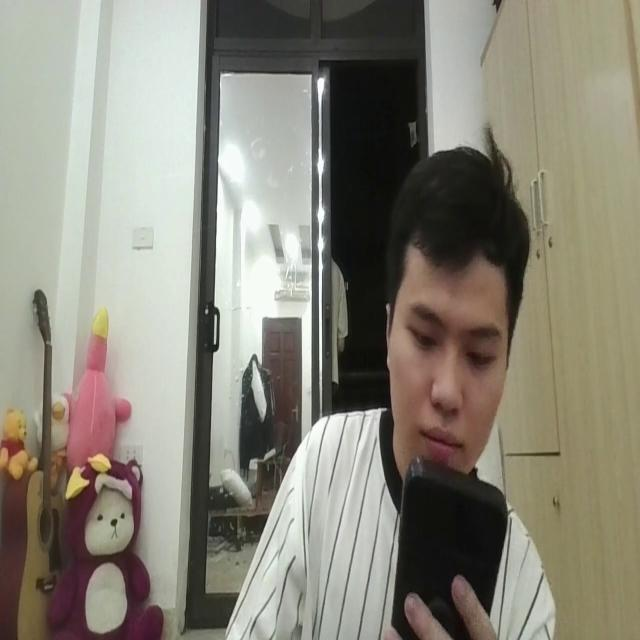phone: (388, 444, 506, 640)
student: (231, 146, 559, 640)
